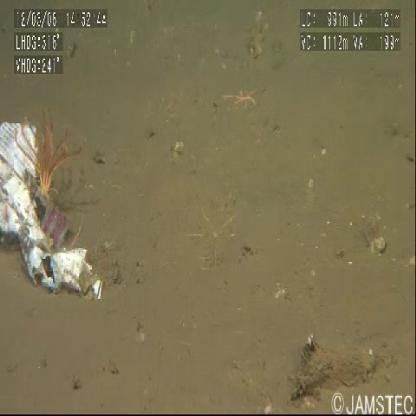Rác: (1, 108, 130, 337)
